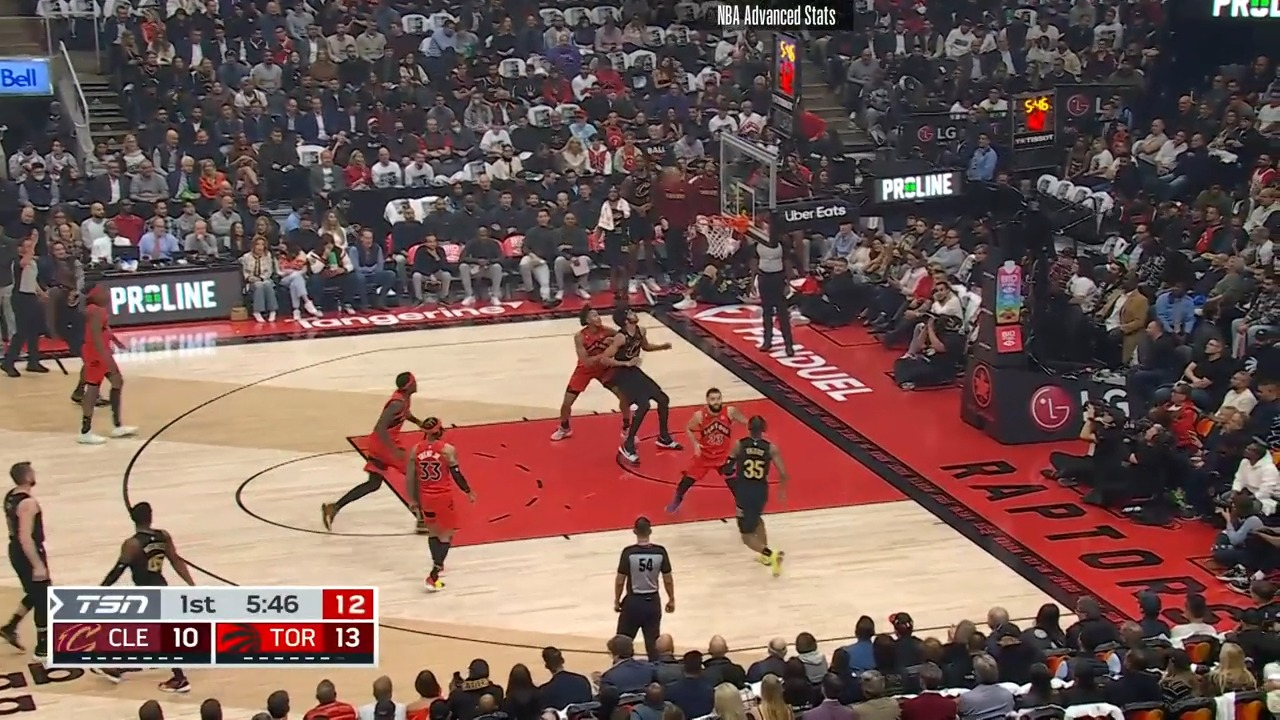net: (696, 210, 755, 258)
player: (333, 371, 441, 531), (400, 414, 475, 595), (602, 306, 680, 472), (0, 459, 59, 669), (668, 385, 753, 524), (717, 411, 788, 574), (38, 255, 114, 404), (554, 307, 629, 447), (74, 278, 134, 448), (101, 504, 203, 591)
referee: (610, 515, 678, 656), (6, 242, 55, 381), (752, 227, 801, 360)
